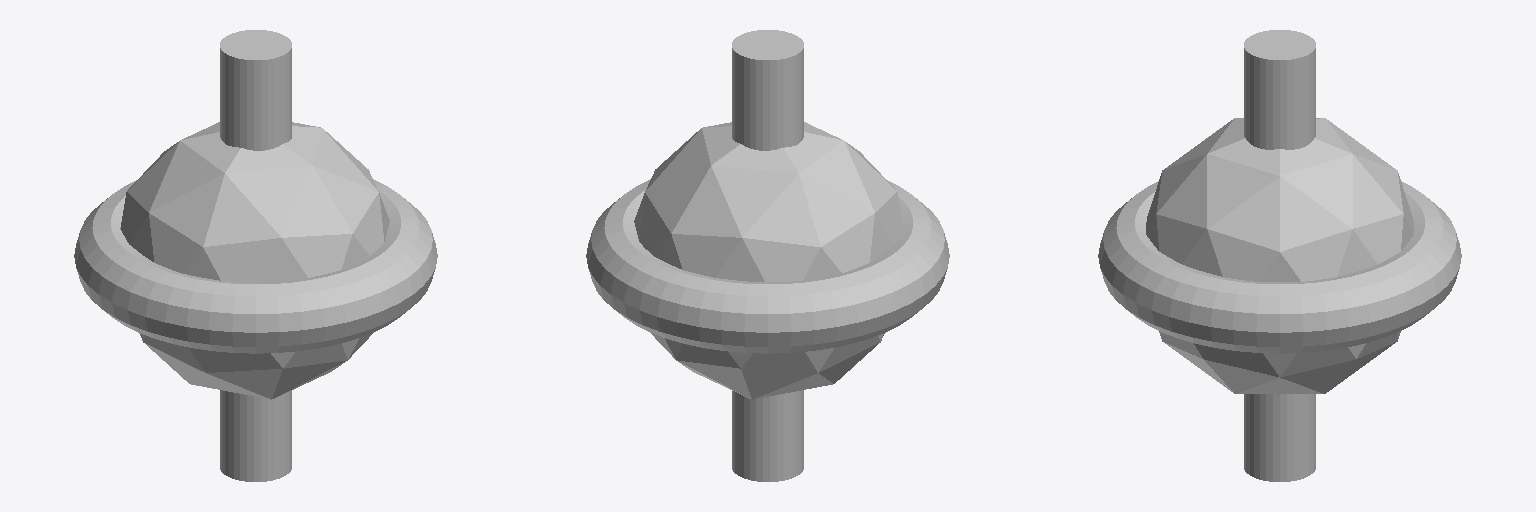
The model's file is enemy.obj.
The picture shows the model from 3 angles: view 1: azimuth 30°, elevation 25°; view 2: azimuth 150°, elevation 25°; view 3: azimuth 270°, elevation 25°; orthographic projection.
Parts seen in each view (by area): view 1: Icosphere, Torus, Cylinder, Cylinder.001; view 2: Icosphere, Torus, Cylinder, Cylinder.001; view 3: Icosphere, Torus, Cylinder, Cylinder.001.
Boxes of the visible parts, <box> form: Icosphere: <box>120,122,389,399</box>; Torus: <box>74,179,437,353</box>; Cylinder: <box>220,30,291,150</box>; Cylinder.001: <box>220,390,291,481</box>; Icosphere: <box>634,122,903,399</box>; Torus: <box>586,179,949,353</box>; Cylinder: <box>732,30,803,150</box>; Cylinder.001: <box>732,390,803,481</box>; Icosphere: <box>1146,118,1413,393</box>; Torus: <box>1098,181,1461,353</box>; Cylinder: <box>1244,30,1315,149</box>; Cylinder.001: <box>1244,394,1315,481</box>.
Bounding box in the file's own units: 2.5 × 3.2 × 2.5.